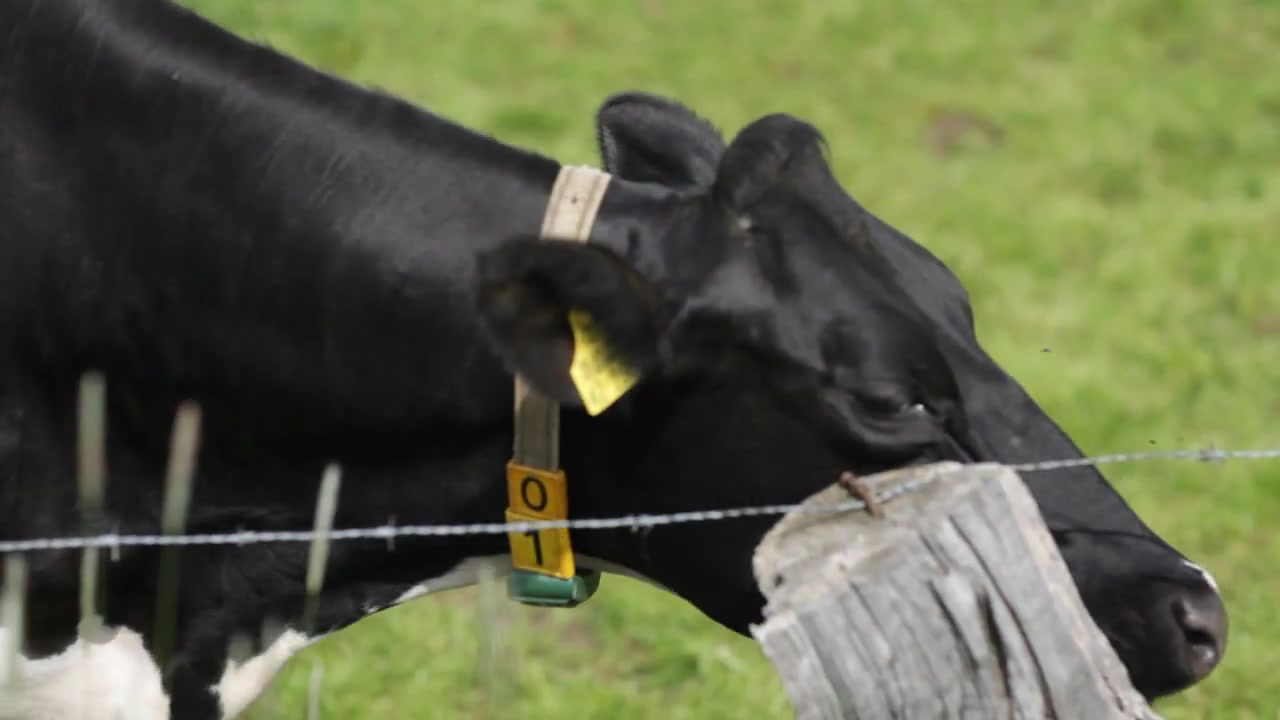cow: (1, 1, 1238, 719)
